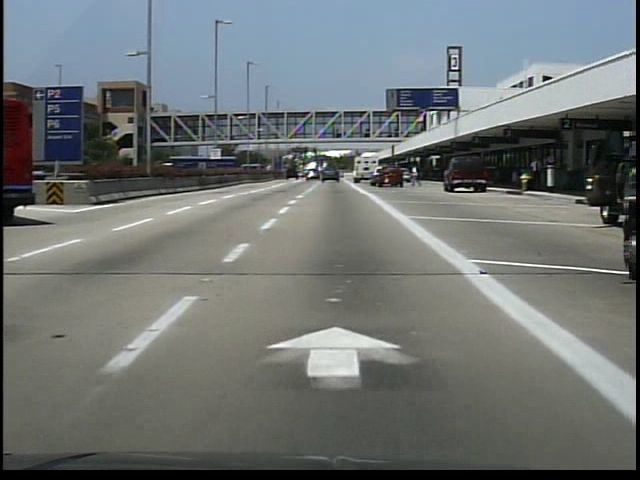person: (526, 155, 545, 197), (410, 167, 424, 190)
